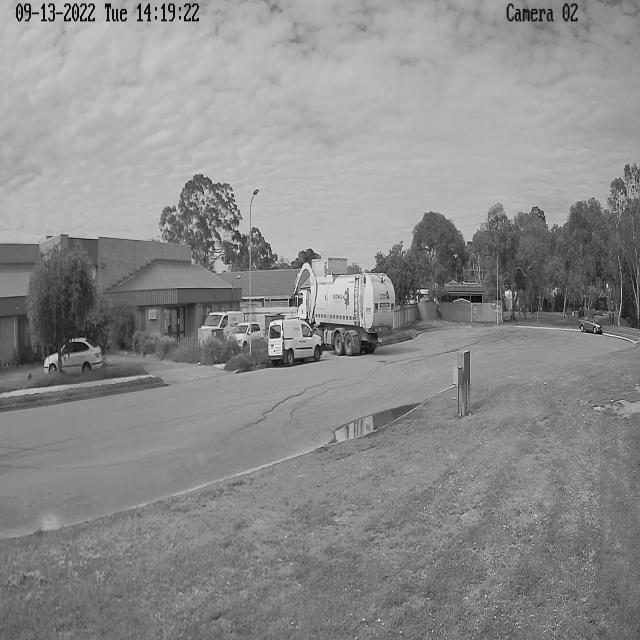Garbage Truck: (293, 257, 394, 356)
Sedan: (45, 336, 104, 374)
Van: (268, 319, 322, 367)
